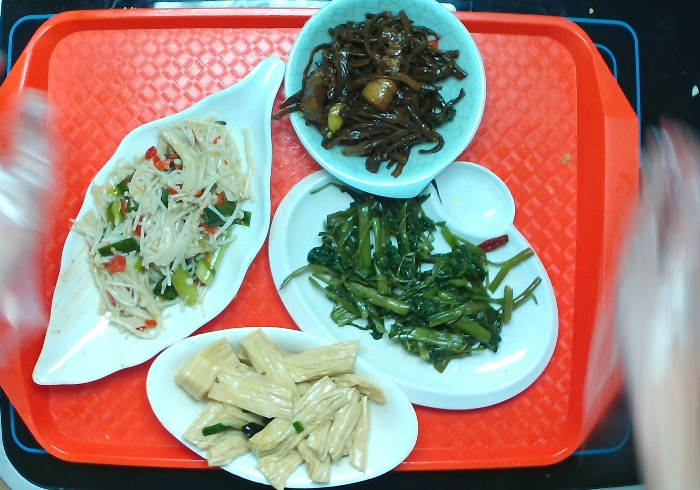RJxy-Bai_Se_Tuo_Yuan: (142, 323, 424, 490)
RJxy-Shu_Ye_Pan: (28, 52, 294, 392)
RJxy-Xiao_Jiao_Yuan_Wan: (276, 1, 492, 203)
RJxy-Zhan_Liao_Pan: (263, 157, 562, 416)
